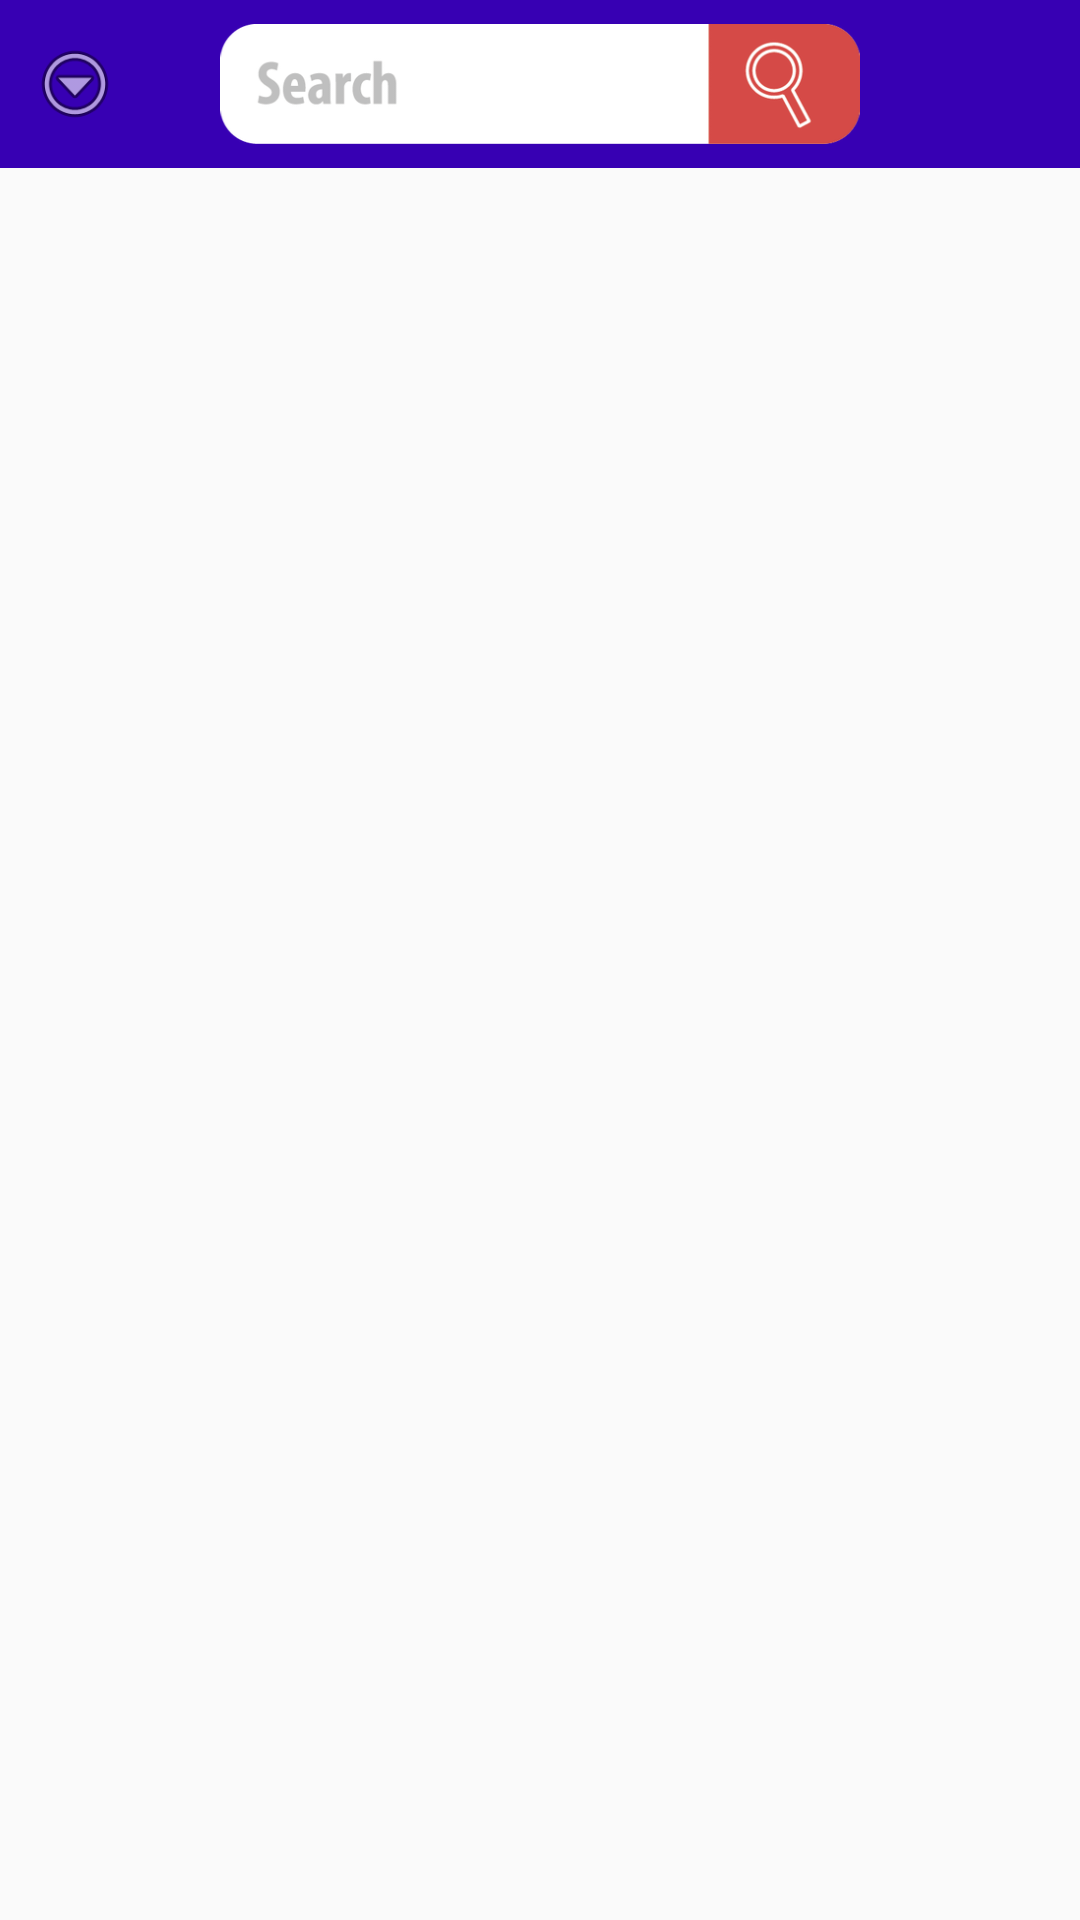

Named icons in this screenshot (1080x1920) and their bounding boxes, box(x1, y1, x2, y2):
more: box(42, 51, 108, 117)
